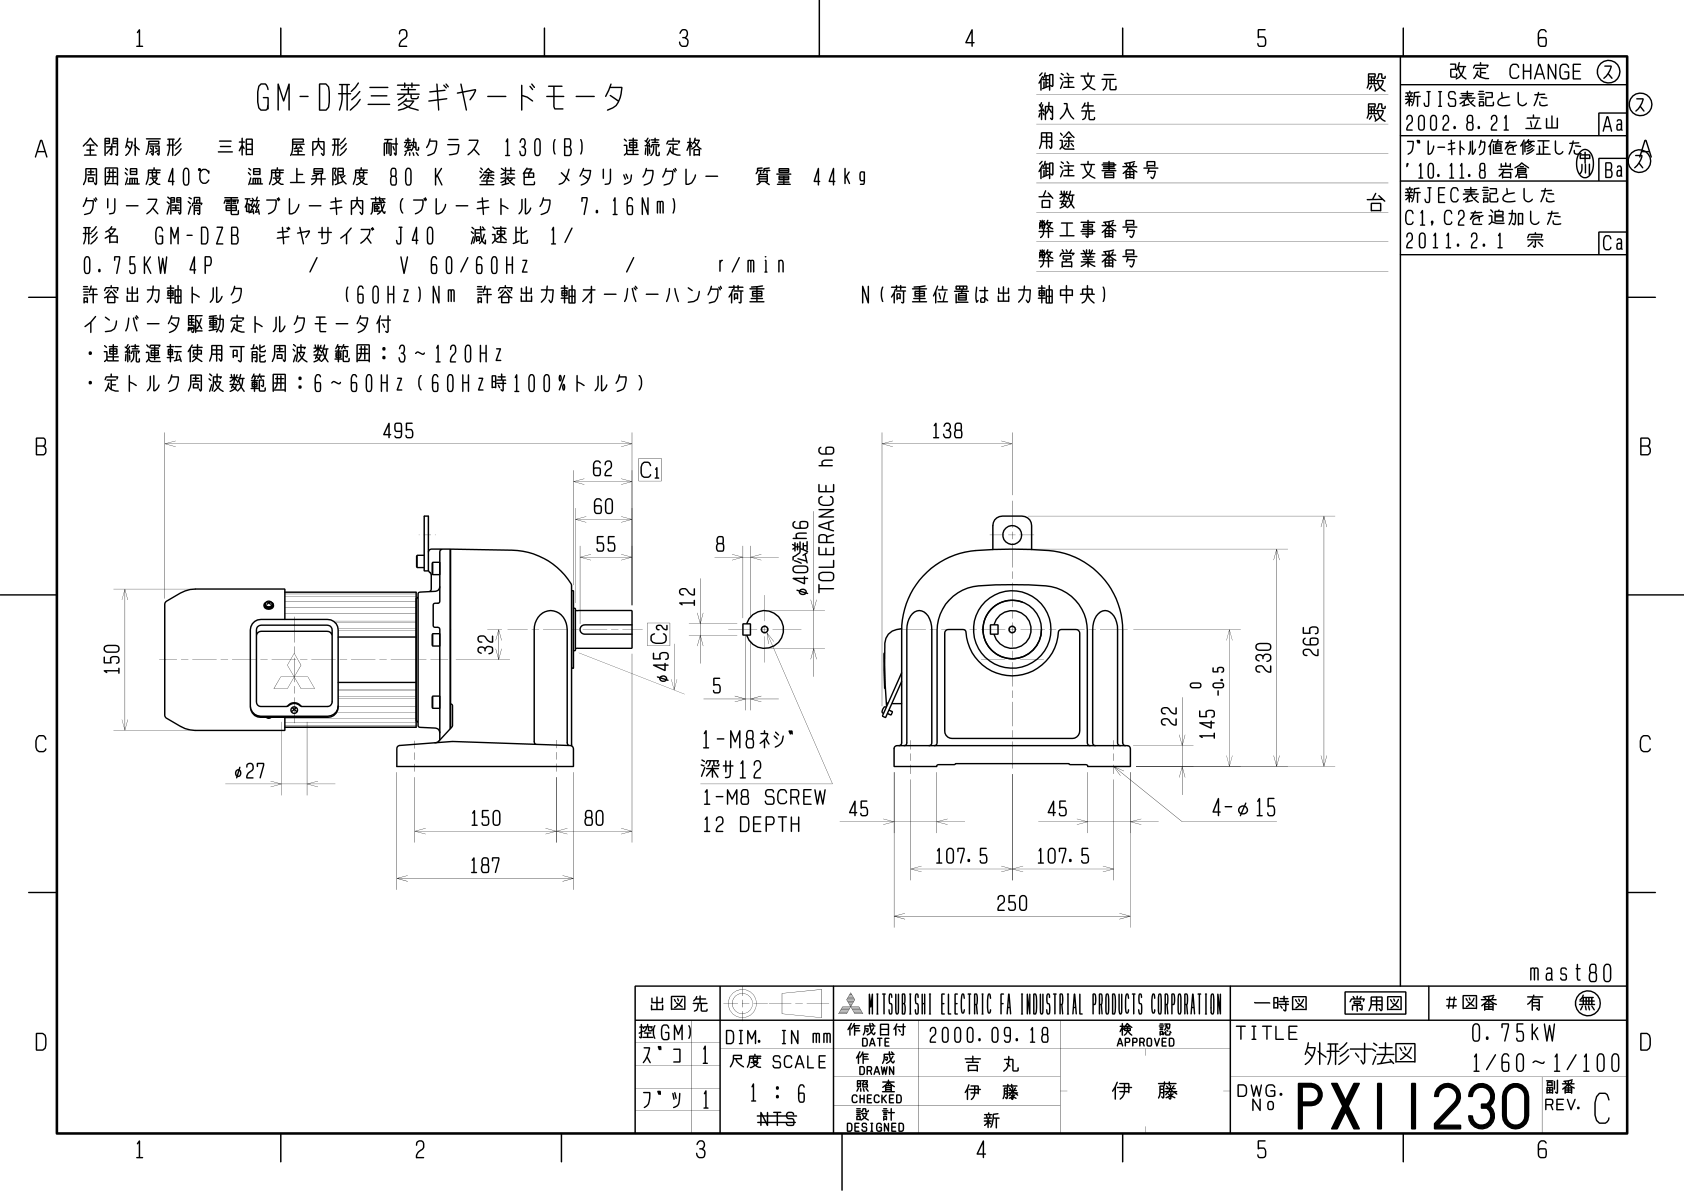GM_D_インバータ屋内_三相_脚: (1, 1, 1680, 1183)
